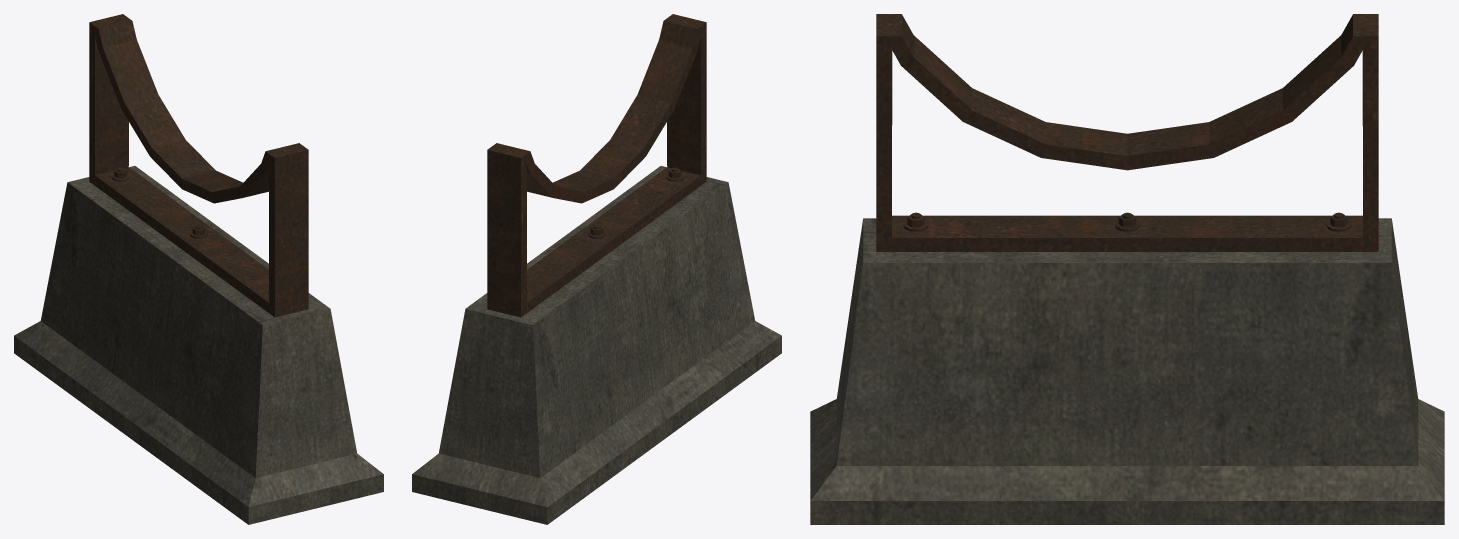
Rendered from stand_mx_2.dae.
3 renders of one model, left to right at view 1: azimuth 30°, elevation 25°; view 2: azimuth 150°, elevation 25°; view 3: azimuth 270°, elevation 25°, orthographic. The views are drawn at different scales.
Visible parts, largest first — view 1: stand_mx_2; view 2: stand_mx_2; view 3: stand_mx_2.
Boxes of the visible parts, x1=… form: stand_mx_2: x1=14, y1=14, x2=383, y2=524; stand_mx_2: x1=412, y1=14, x2=781, y2=524; stand_mx_2: x1=810, y1=14, x2=1444, y2=524.
Bounding box in the file's own units: 0.8 × 2.4 × 1.9.
2 materials, 2 textured.
